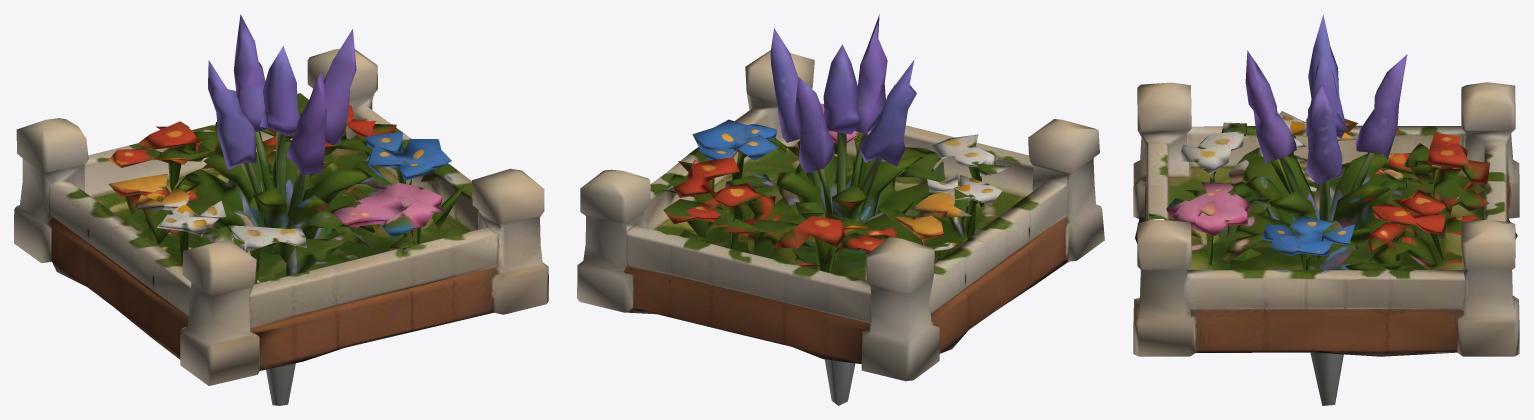
Rendered from deco_flowerbed.glb.
The picture shows the model from 3 angles, left to right: view 1: azimuth 30°, elevation 25°; view 2: azimuth 150°, elevation 25°; view 3: azimuth 270°, elevation 25°; orthographic projection. The views are drawn at different scales.
Visible parts, largest first — view 1: tripo_node_3dd0fc6c-6d8d-4202-b77b-0eee8ba02c67; view 2: tripo_node_3dd0fc6c-6d8d-4202-b77b-0eee8ba02c67; view 3: tripo_node_3dd0fc6c-6d8d-4202-b77b-0eee8ba02c67.
Boxes of the visible parts, x1,y1,x2,y2 form: tripo_node_3dd0fc6c-6d8d-4202-b77b-0eee8ba02c67: [14, 14, 548, 405]; tripo_node_3dd0fc6c-6d8d-4202-b77b-0eee8ba02c67: [577, 14, 1104, 405]; tripo_node_3dd0fc6c-6d8d-4202-b77b-0eee8ba02c67: [1133, 14, 1519, 405].
Size of the model in its own units: 0.9186 by 0.9364 by 0.92.
Materials: 1 (1 with a texture image).
